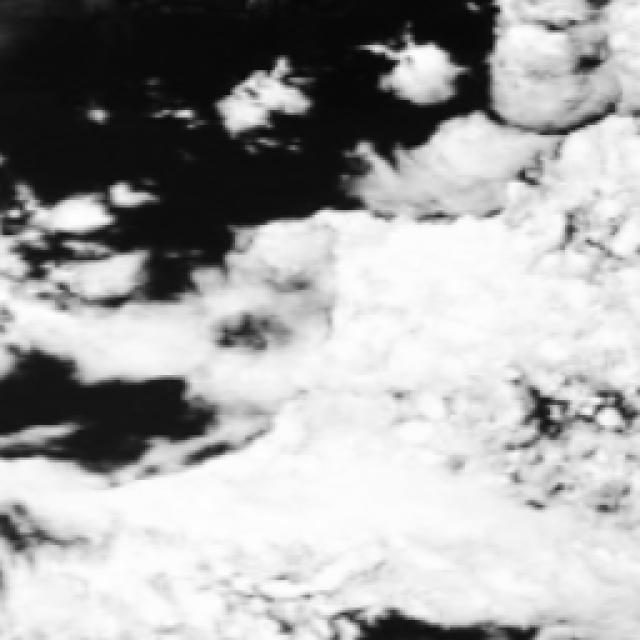CB: (338, 227, 524, 372), (271, 408, 451, 548), (108, 502, 274, 624), (444, 508, 618, 611)
